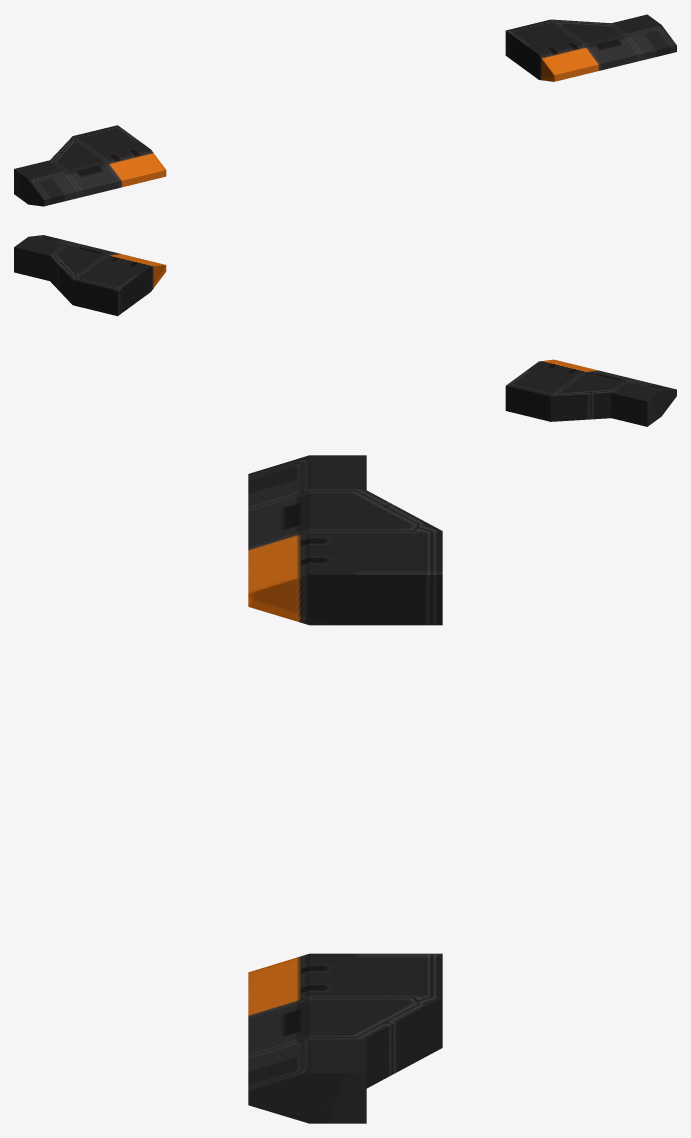
File: Mod-E_blue.FBX
The picture shows the model from 3 angles, top to bottom: view 1: azimuth 30°, elevation 25°; view 2: azimuth 150°, elevation 25°; view 3: azimuth 270°, elevation 25°; orthographic projection. The views are drawn at different scales.
Parts seen in each view (by area): view 1: Mod-E_Left, Mod-E_Right; view 2: Mod-E_Right, Mod-E_Left; view 3: Mod-E_Left, Mod-E_Right.
Boxes of the visible parts, <box> form: Mod-E_Left: <box>505,14,676,81</box>; Mod-E_Right: <box>14,125,166,206</box>; Mod-E_Right: <box>505,359,676,426</box>; Mod-E_Left: <box>14,235,166,316</box>; Mod-E_Left: <box>248,953,442,1123</box>; Mod-E_Right: <box>248,455,442,625</box>.
Size of the model in its own units: 11183 by 1485 by 424.
